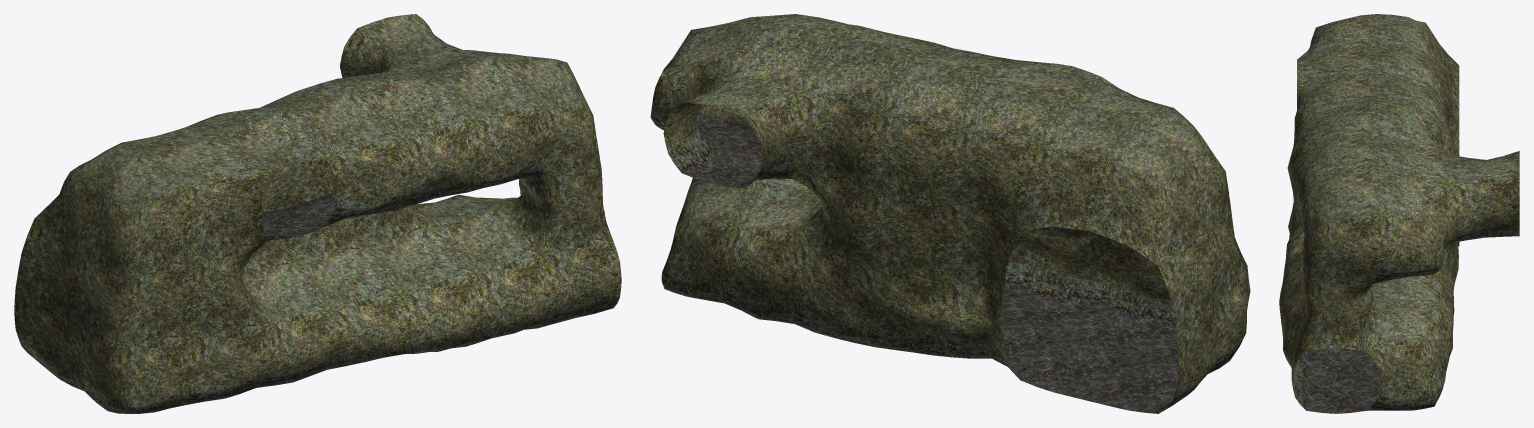
The model's file is thm_all_cave_s03_damprock_r11_r11.fbx.
3 renders of one model, left to right at view 1: azimuth 30°, elevation 25°; view 2: azimuth 150°, elevation 25°; view 3: azimuth 270°, elevation 25°, orthographic. The views are drawn at different scales.
Visible parts, largest first — view 1: mesh_node; view 2: mesh_node; view 3: mesh_node.
Part boxes in pixels (bbox=[...]): mesh_node: bbox=[14, 14, 621, 413]; mesh_node: bbox=[650, 14, 1250, 413]; mesh_node: bbox=[1279, 14, 1519, 413].
Bounding box in the file's own units: 58.69 × 27.21 × 26.24.
